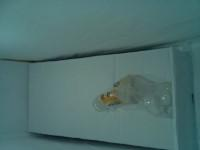bottle: (94, 76, 172, 124)
